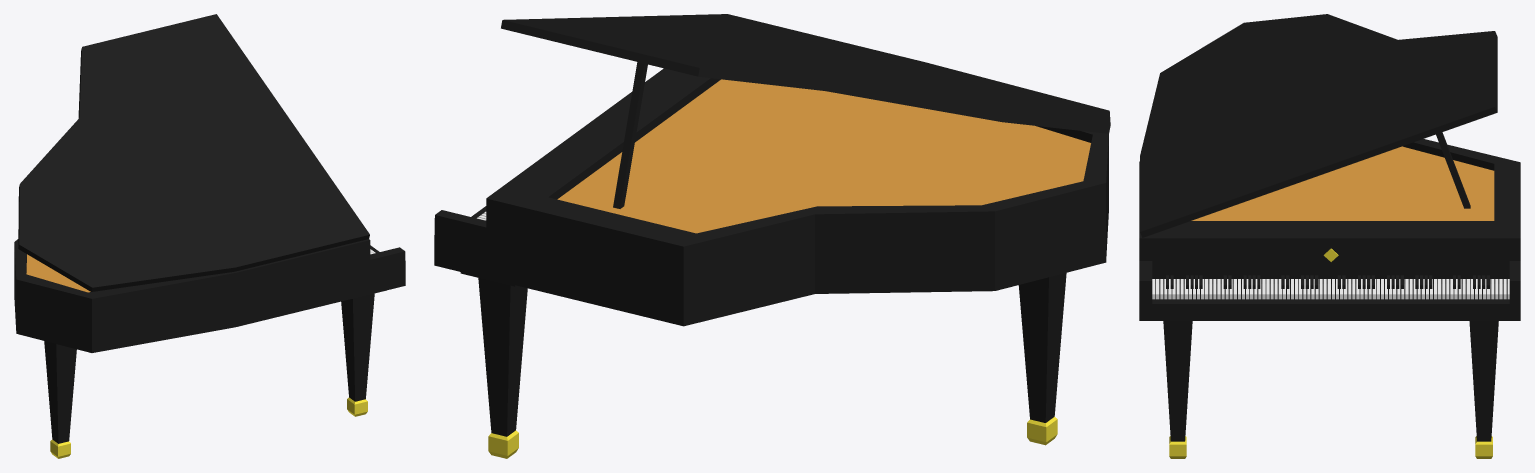
The model's file is Piano.glb.
3 views of the same model, side by side, from view 1: azimuth 30°, elevation 25°; view 2: azimuth 150°, elevation 25°; view 3: azimuth 270°, elevation 25° (orthographic). The views are drawn at different scales.
Parts seen in each view (by area): view 1: piano_Cube.029; view 2: piano_Cube.029; view 3: piano_Cube.029.
Boxes of the visible parts, x1,y1,x2,y2 form: piano_Cube.029: (14,14,405,458); piano_Cube.029: (434,14,1110,458); piano_Cube.029: (1139,14,1520,458).
Size of the model in its own units: 12.68 by 10.65 by 10.6.
